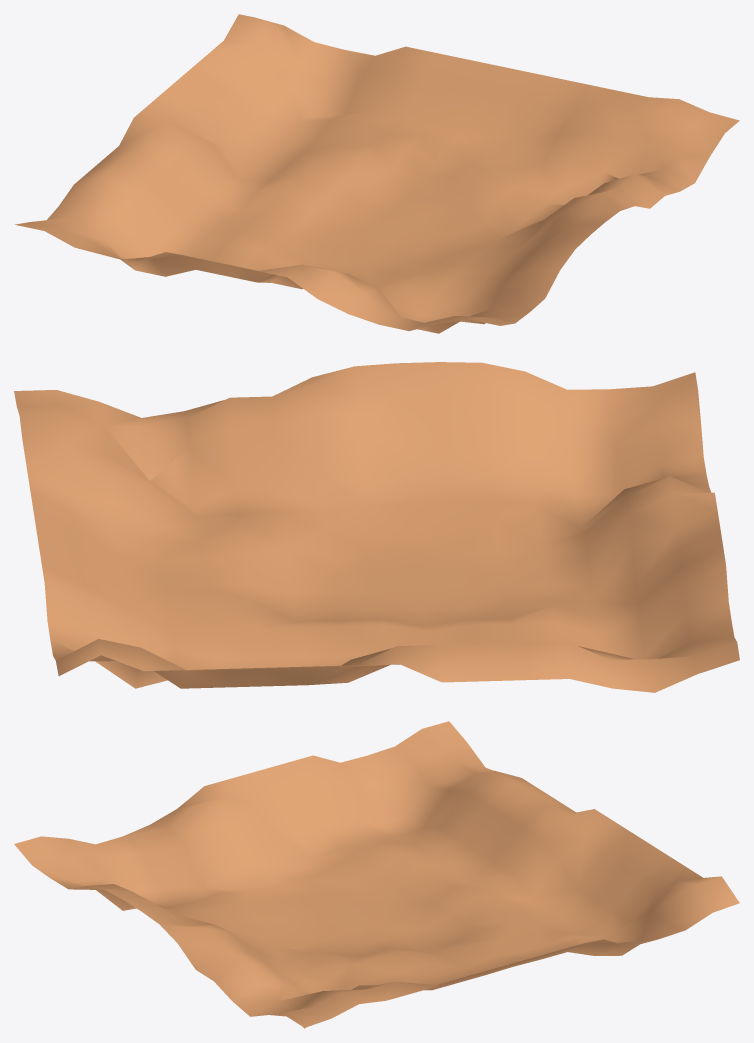
The model's file is Deserto.fbx.
3 renders of one model, top to bottom at view 1: azimuth 30°, elevation 25°; view 2: azimuth 150°, elevation 25°; view 3: azimuth 270°, elevation 25°, orthographic. The views are drawn at different scales.
Visible parts, largest first — view 1: Sabbia.005; view 2: Sabbia.005; view 3: Sabbia.005.
Part boxes in pixels (left/top/right/bottom): Sabbia.005: left=15, top=14, right=739, bottom=333; Sabbia.005: left=14, top=362, right=739, bottom=692; Sabbia.005: left=14, top=721, right=739, bottom=1028.
Bounding box in the file's own units: 18721 × 1932 × 18721.
